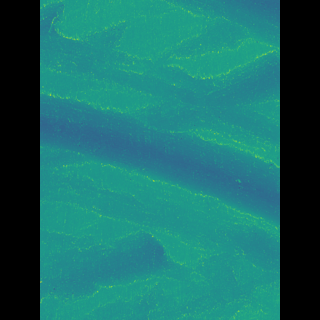Loch: (70, 82, 250, 231), (166, 0, 249, 150), (69, 225, 169, 319)
